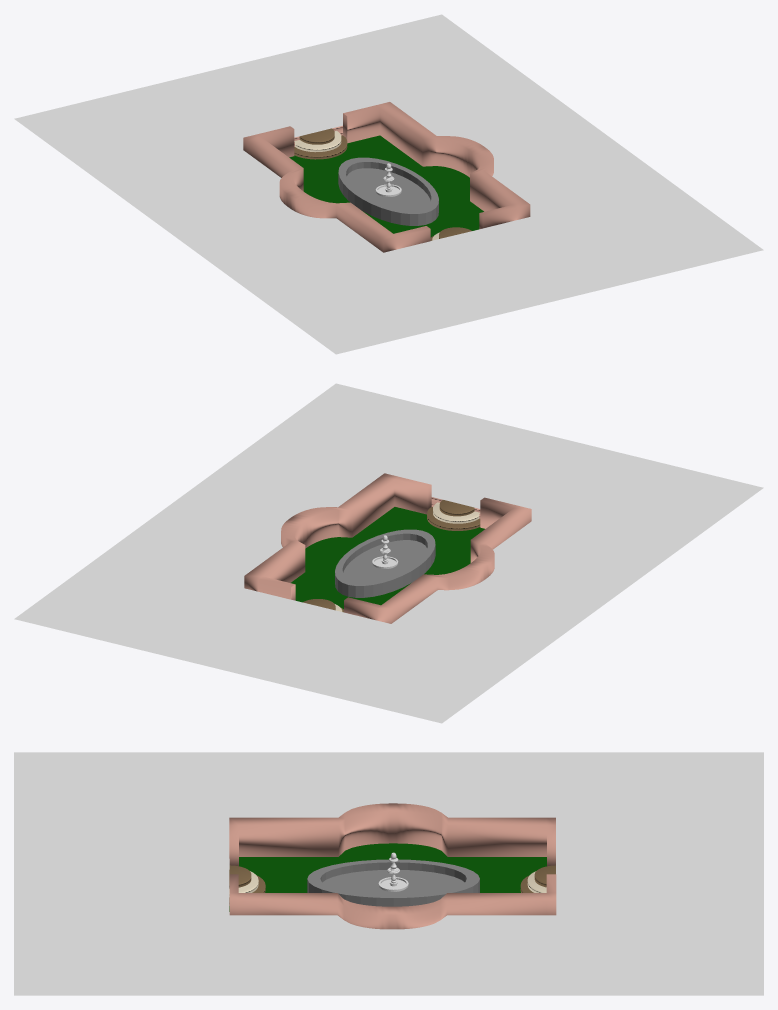
Rendered from Jardinera.glb.
The picture shows the model from 3 angles, top to bottom: view 1: azimuth 30°, elevation 25°; view 2: azimuth 150°, elevation 25°; view 3: azimuth 270°, elevation 25°; orthographic projection. The views are drawn at different scales.
Visible parts, largest first — view 1: Plane.016, Cube.001, Plane, Cube, Cylinder; view 2: Plane.016, Cube.001, Plane, Cube, Cylinder; view 3: Plane.016, Cube, Cube.001, Plane, Cylinder, Cylinder.007.
Boxes of the visible parts, box(x1,y1,x2,y2) form: Plane.016: box(14, 14, 763, 354); Cube.001: box(343, 102, 530, 229); Plane: box(289, 135, 483, 237); Cube: box(243, 126, 430, 252); Cylinder: box(338, 157, 438, 225); Plane.016: box(14, 383, 763, 723); Cube.001: box(244, 473, 431, 600); Plane: box(291, 507, 484, 609); Cube: box(344, 497, 531, 623); Cylinder: box(335, 529, 435, 597); Plane.016: box(14, 752, 763, 995); Cube: box(229, 803, 555, 866); Cube.001: box(229, 874, 556, 929); Plane: box(229, 843, 546, 911); Cylinder: box(307, 859, 479, 906); Cylinder.007: box(378, 852, 408, 891).
Bounding box in the file's own units: 241 × 19.7 × 315.
